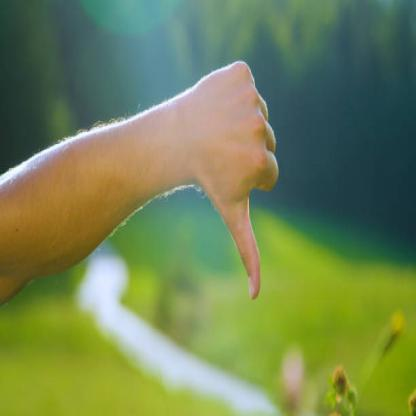thumb_down: (191, 54, 282, 306)
